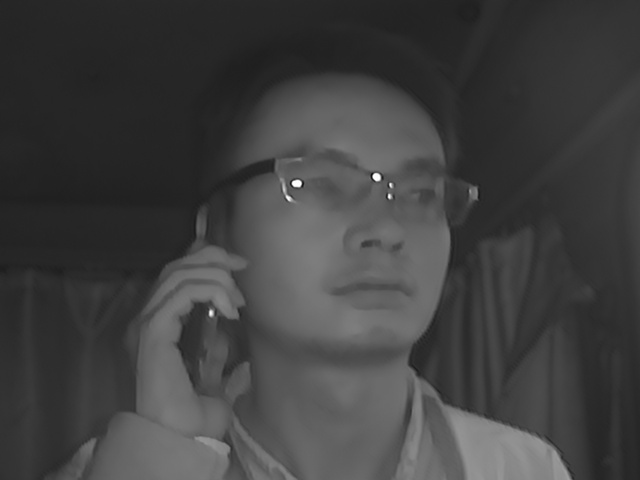hand: (124, 243, 250, 435)
